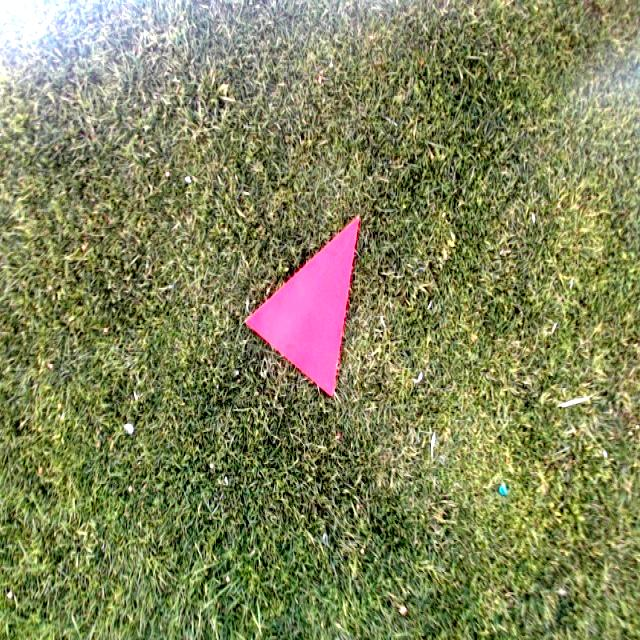red_triangle: (244, 216, 363, 397)
